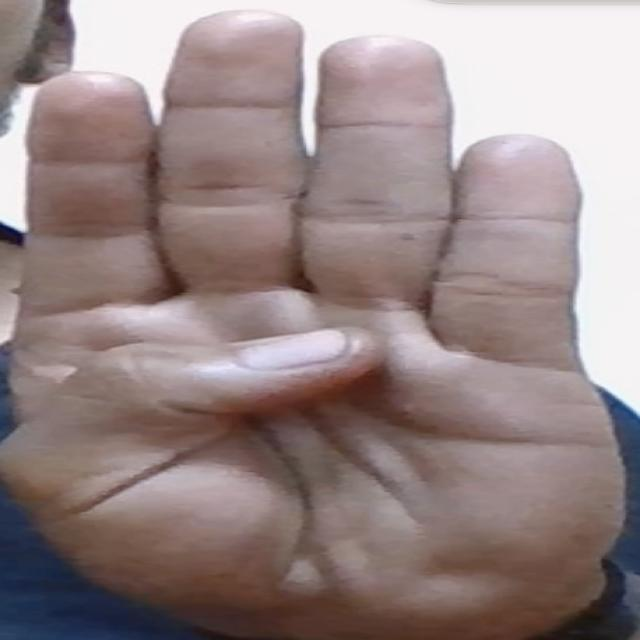B: (0, 4, 634, 638)
